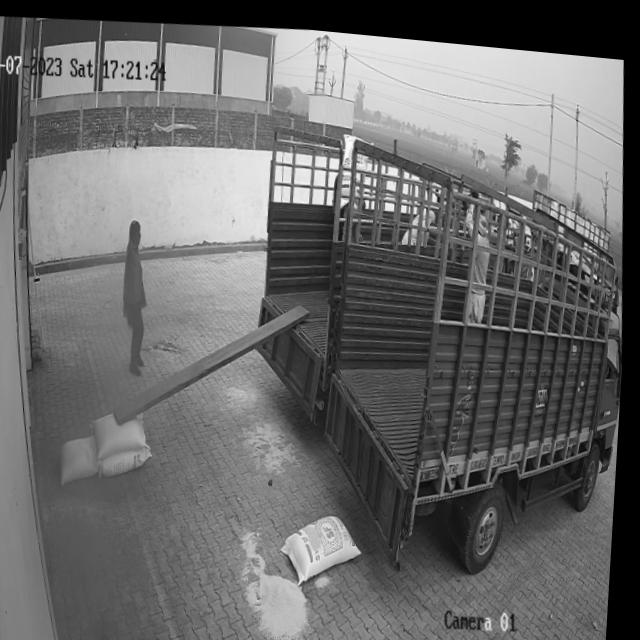sack: (283, 501, 372, 584), (92, 406, 153, 460), (62, 429, 106, 484), (104, 441, 158, 477)
